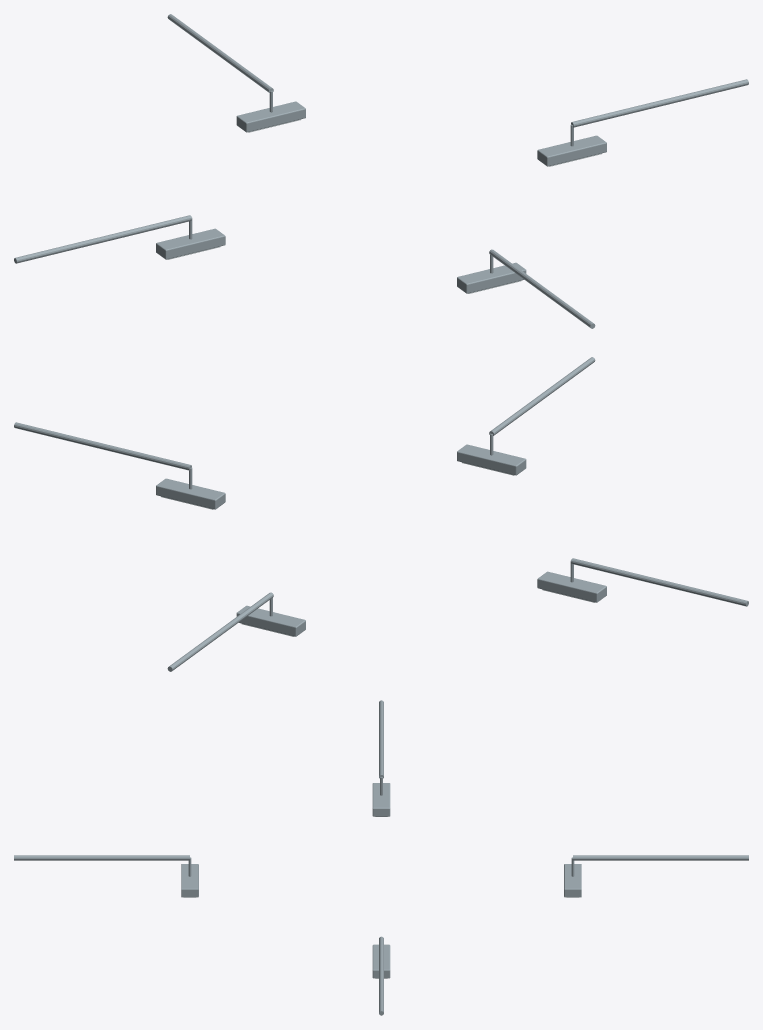
Rendered from RD_VL_Lighting.fbx.
3 renders of one model, top to bottom at view 1: azimuth 30°, elevation 25°; view 2: azimuth 150°, elevation 25°; view 3: azimuth 270°, elevation 25°, orthographic. The views are drawn at different scales.
Parts seen in each view (by area): view 1: RD_VL_Lighting; view 2: RD_VL_Lighting; view 3: RD_VL_Lighting.
Boxes of the visible parts, x1,y1,x2,y2 form: RD_VL_Lighting: (14,14,748,328); RD_VL_Lighting: (14,357,748,671); RD_VL_Lighting: (14,700,748,1015).
Size of the model in its own units: 998 by 46.52 by 998.
